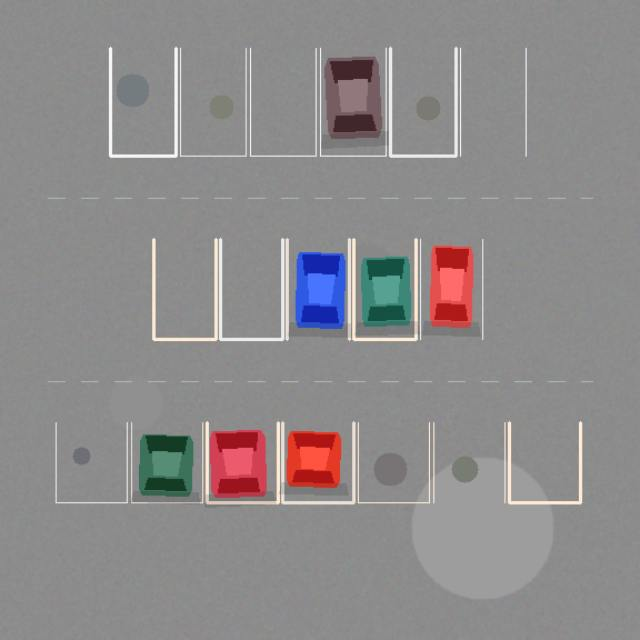space-empty: (110, 48, 176, 156), (180, 48, 246, 156), (250, 48, 316, 156), (390, 48, 456, 156), (460, 48, 526, 156), (153, 239, 216, 339), (220, 239, 282, 339), (56, 422, 127, 502), (358, 422, 429, 502), (433, 422, 504, 502), (509, 422, 580, 502)
space-occupied: (320, 48, 386, 156), (353, 239, 416, 339), (287, 239, 349, 339), (420, 239, 482, 339), (131, 422, 202, 502), (207, 422, 278, 502), (282, 422, 353, 502)
